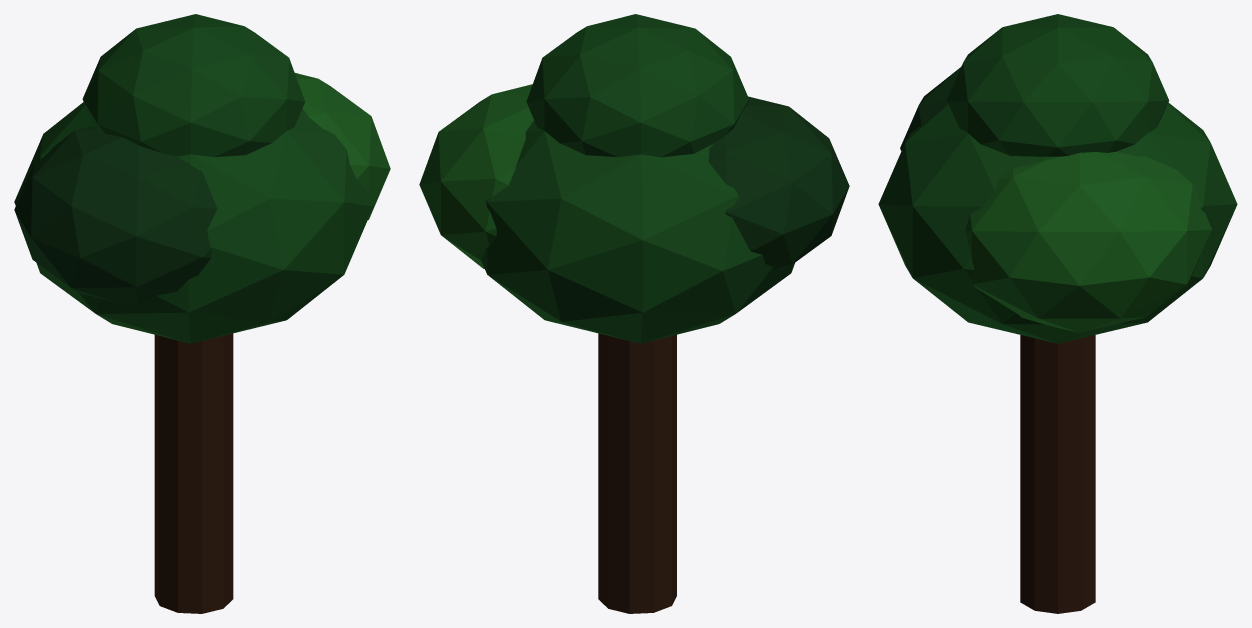
The model's file is Tree_A.obj.
3 renders of one model, left to right at view 1: azimuth 30°, elevation 25°; view 2: azimuth 150°, elevation 25°; view 3: azimuth 270°, elevation 25°, orthographic.
Visible parts, largest first — view 1: Canopy0, Canopy1, Canopy3, Trunk, Canopy2; view 2: Canopy0, Canopy3, Trunk, Canopy1, Canopy2; view 3: Canopy2, Canopy0, Canopy3, Trunk, Canopy1.
Boxes of the visible parts, box(x1,y1,x2,y2) form: Canopy0: box(14, 102, 373, 343); Canopy1: box(14, 126, 217, 305); Canopy3: box(82, 14, 304, 157); Trunk: box(154, 333, 233, 613); Canopy2: box(295, 73, 390, 219); Canopy0: box(480, 120, 794, 343); Canopy3: box(526, 14, 748, 157); Trunk: box(598, 333, 676, 613); Canopy1: box(708, 96, 849, 270); Canopy2: box(419, 84, 533, 268); Canopy2: box(965, 151, 1212, 332); Canopy0: box(878, 102, 1237, 343); Canopy3: box(946, 14, 1169, 156); Trunk: box(1020, 335, 1095, 613); Canopy1: box(900, 67, 960, 150).
Bounding box in the file's own units: 3.67 × 5.42 × 3.1.
